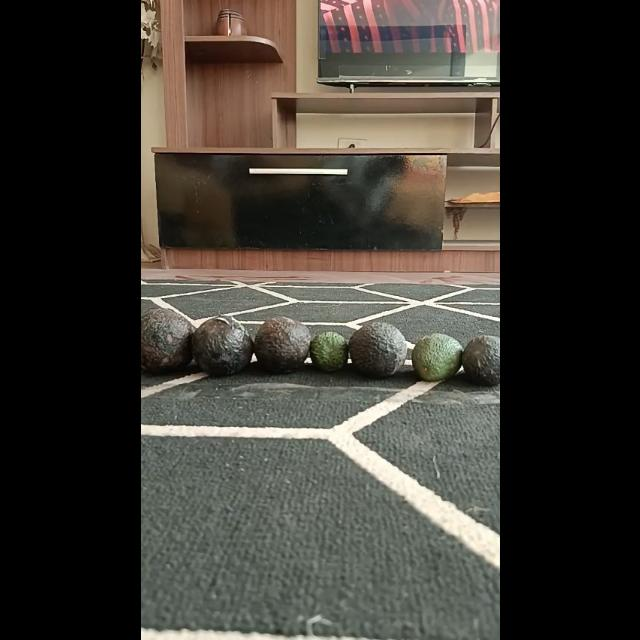Primera: (191, 314, 253, 376), (140, 308, 196, 372), (252, 316, 312, 372), (348, 321, 406, 377)
Segunda: (411, 332, 463, 382), (460, 334, 500, 386)
Tercera: (308, 332, 348, 372)
